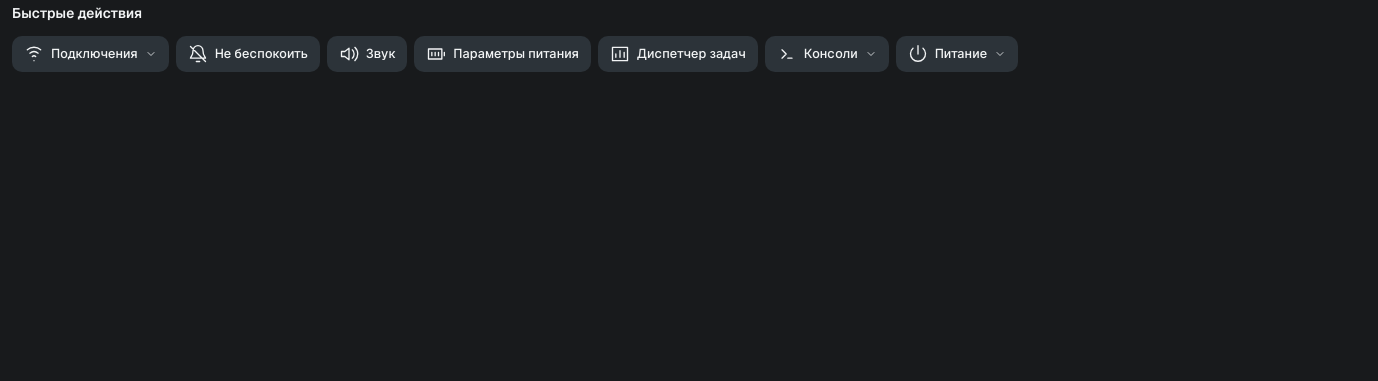
Test: shows delayed power actions in the power menu
This screenshot has width=1378, height=381.
Click the button "Питание" at {"x": 957, "y": 54}, box [896,36,1018,72]
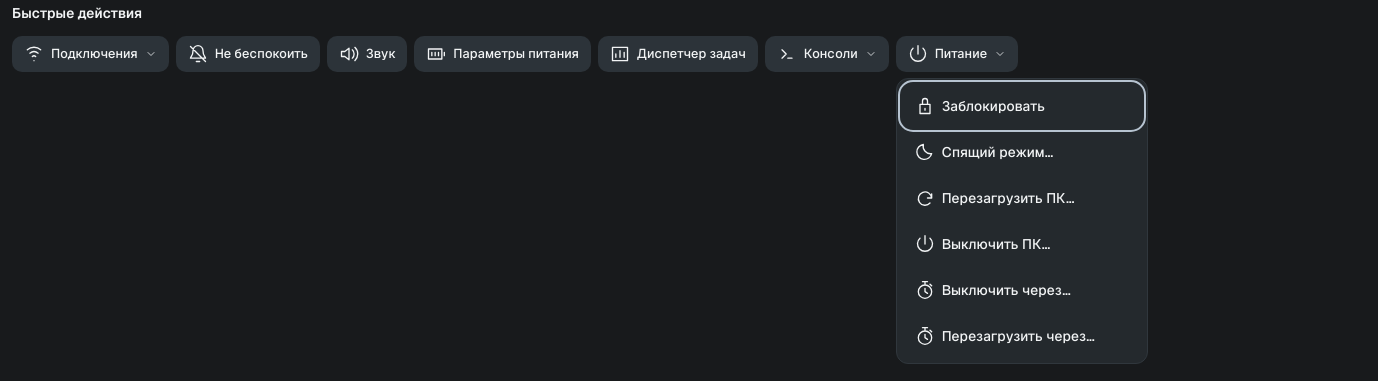
Expected: the menu item "Выключить через…" is shown, [903,269,1141,311]
Click the menu item "Перезагрузить через…" at {"x": 1022, "y": 336}, box [903,315,1141,357]
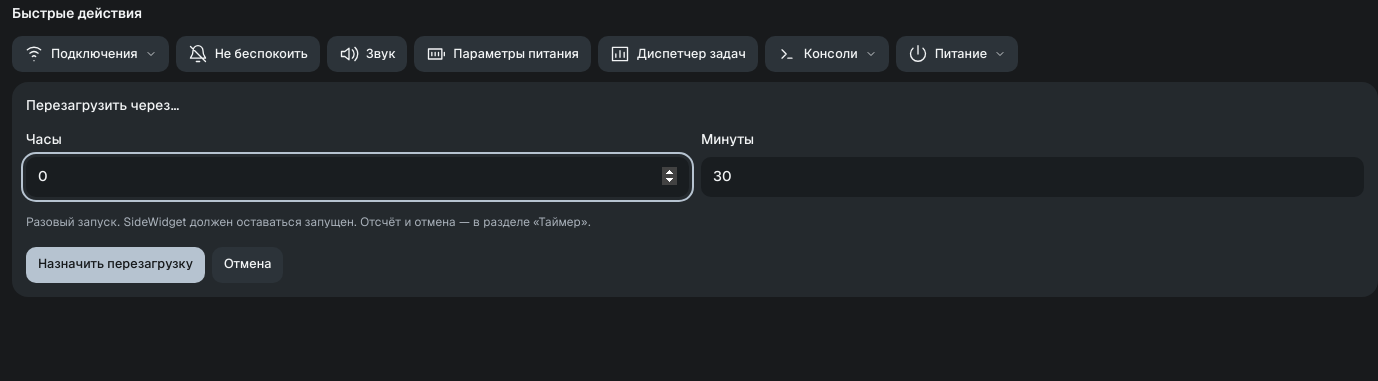
Expected: the number field labelled "Часы" is shown, [26,157,689,197]
Expected: the number field labelled "Минуты" is shown, [701,157,1364,197]
